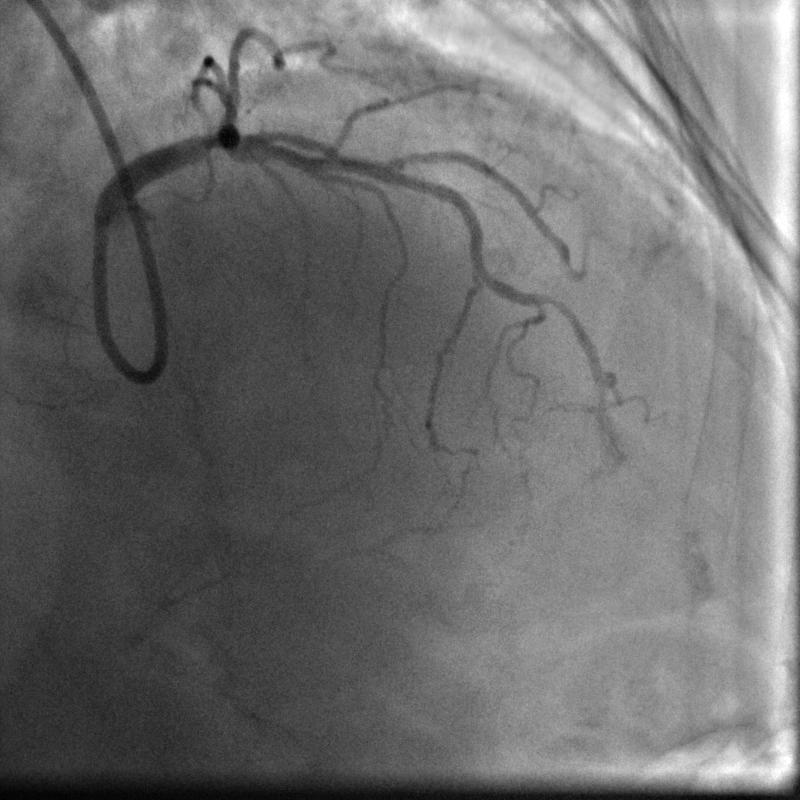Stenosis: (192, 119, 225, 163)
